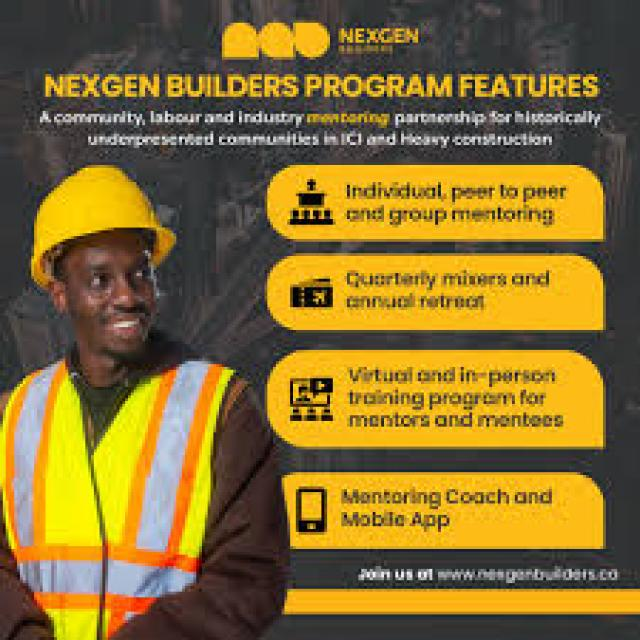Reflective-Jacket: (0, 352, 250, 640)
Safety-Helmet: (23, 160, 182, 270)
